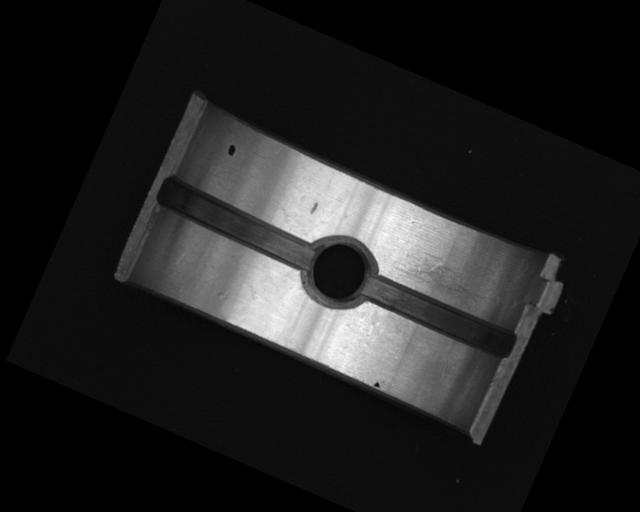blot: (225, 143, 237, 158), (372, 379, 383, 391)
bruise: (308, 199, 320, 216)
gap: (151, 172, 323, 275), (357, 268, 519, 363)
hole: (292, 223, 384, 319)
scratch: (385, 243, 492, 313)
